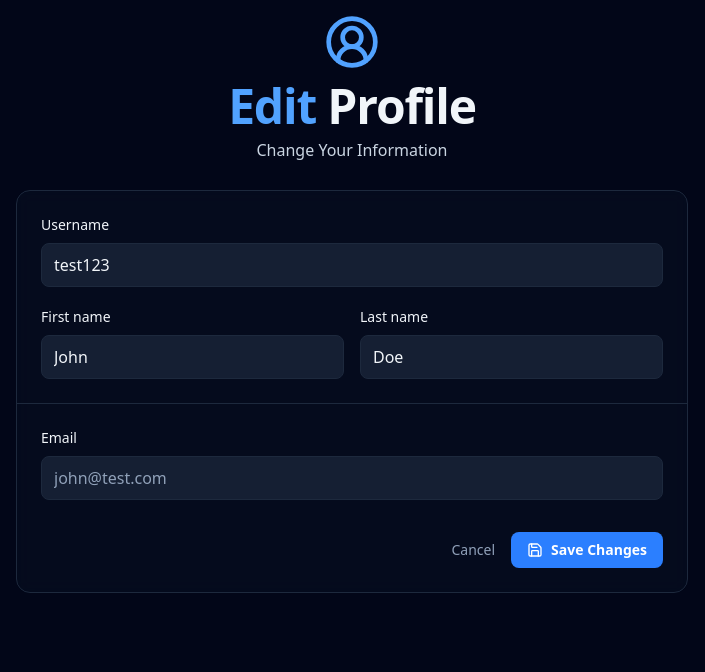
Profile Page › 3. Should edit data and save successfully (Update Profile)
The width and height of the screenshot is (705, 672).
Replace the text in the field with placeholder "First name" below "First name" with "Jane" at (192, 357), box [41,335,344,379]
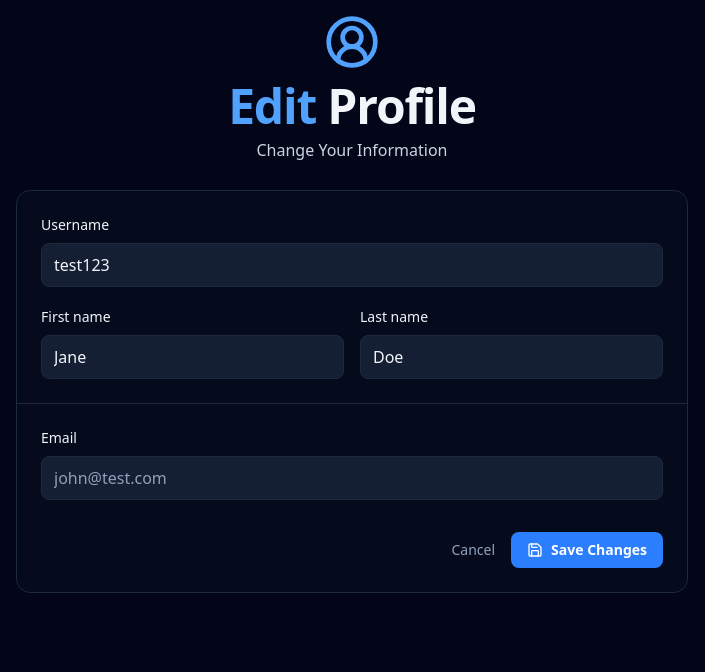
Click the button "Save Changes" at (587, 550), box [511,532,663,568]
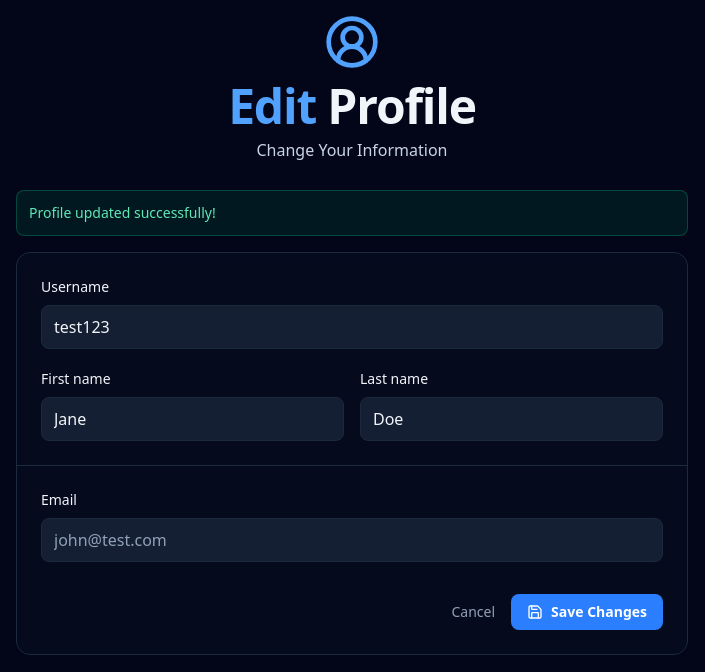
Expected: the text "Profile updated successfully!" is shown, [16,190,688,236]
